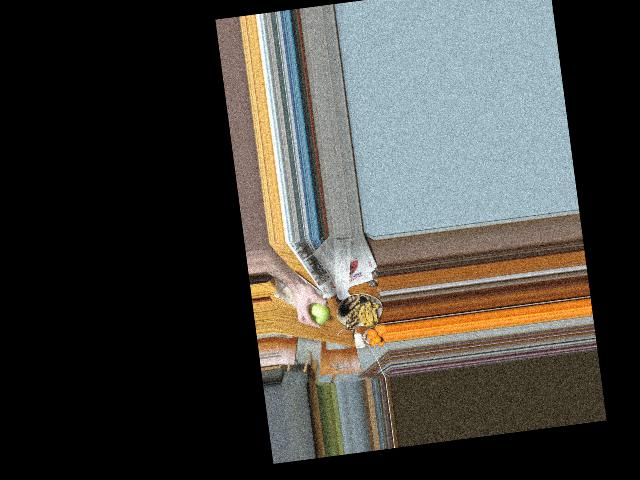apple: (305, 297, 332, 329)
